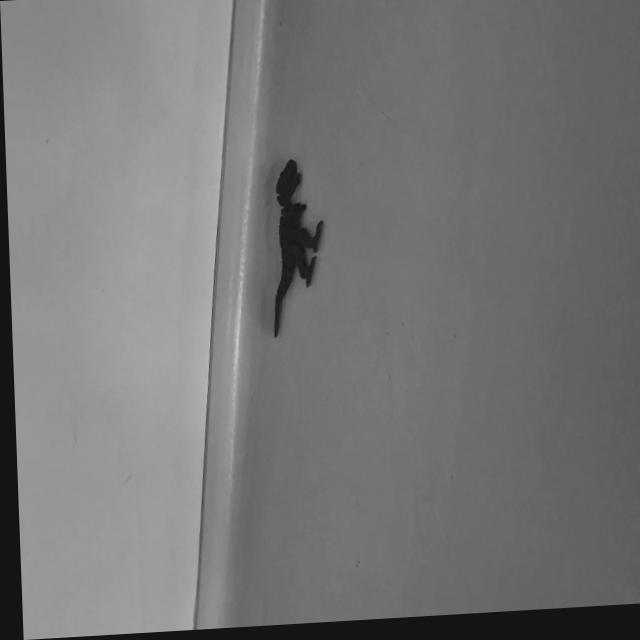dino: (267, 155, 328, 338)
